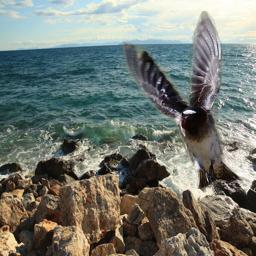Swallow: (123, 11, 244, 189)
